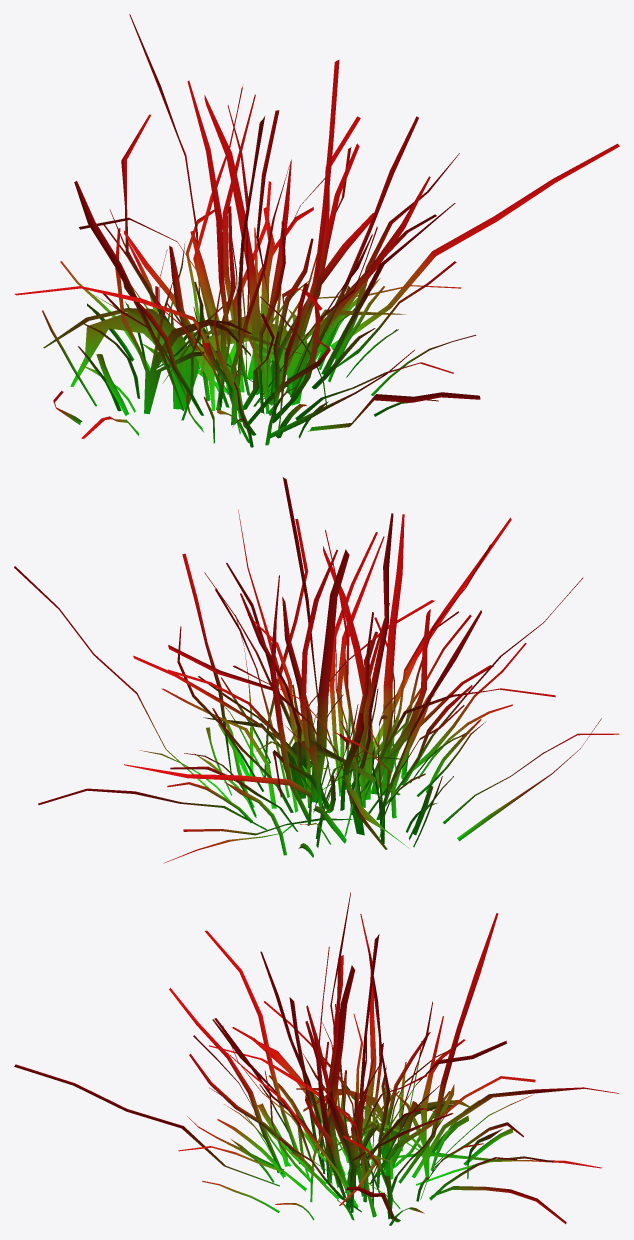
Rendered from Tundra Grass_LOD1_Var1_wk2oaeyqx.fbx.
3 renders of one model, top to bottom at view 1: azimuth 30°, elevation 25°; view 2: azimuth 150°, elevation 25°; view 3: azimuth 270°, elevation 25°, orthographic. The views are drawn at different scales.
Visible parts, largest first — view 1: _geqw_Var1_LOD1; view 2: _geqw_Var1_LOD1; view 3: _geqw_Var1_LOD1.
Boxes of the visible parts, left/top/right/bottom form: _geqw_Var1_LOD1: left=14, top=14, right=619, bottom=447; _geqw_Var1_LOD1: left=14, top=477, right=619, bottom=863; _geqw_Var1_LOD1: left=14, top=892, right=618, bottom=1225.
Size of the model in its own units: 37.16 by 20.33 by 40.46.
